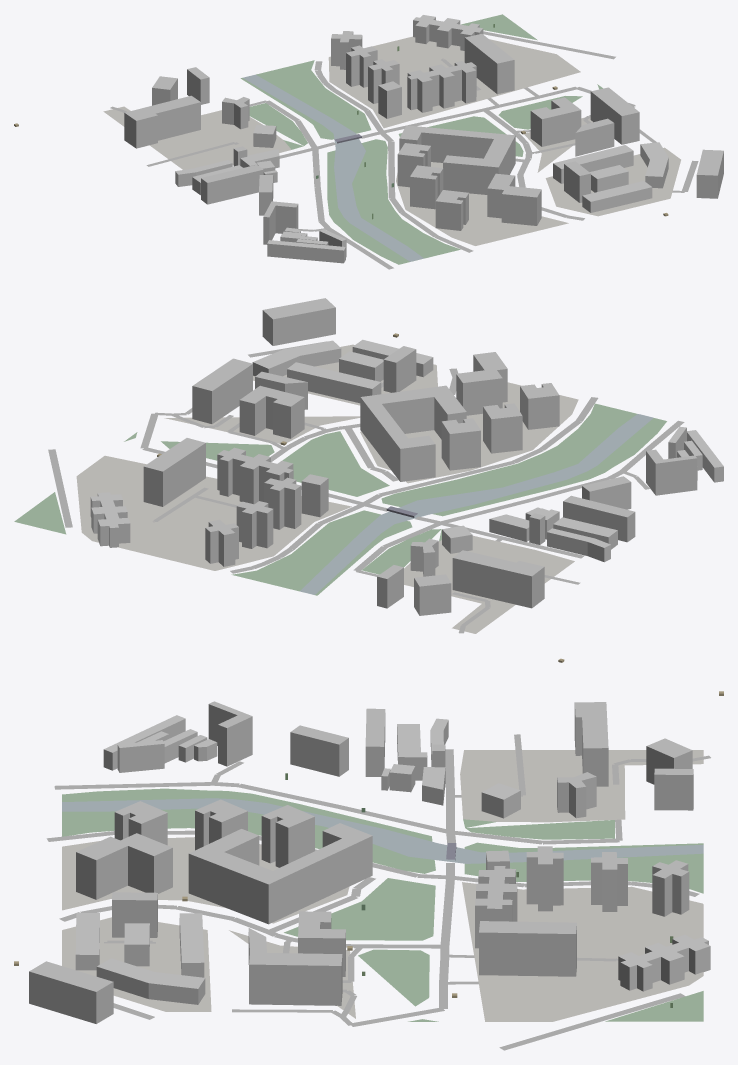
3 renders of one model, top to bottom at view 1: azimuth 30°, elevation 25°; view 2: azimuth 150°, elevation 25°; view 3: azimuth 270°, elevation 25°, orthographic. The views are drawn at different scales.
Bounding box in the file's own units: 655 × 41.04 × 553.
